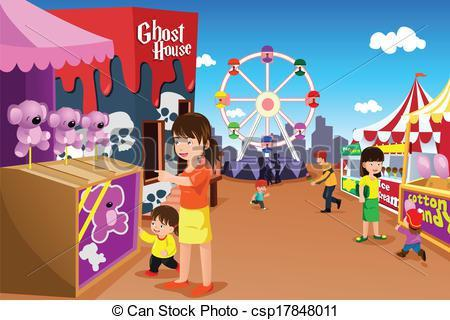person: (165, 112, 221, 297), (345, 141, 388, 244), (135, 204, 180, 277), (304, 149, 345, 217), (389, 196, 429, 263), (249, 179, 272, 214)
